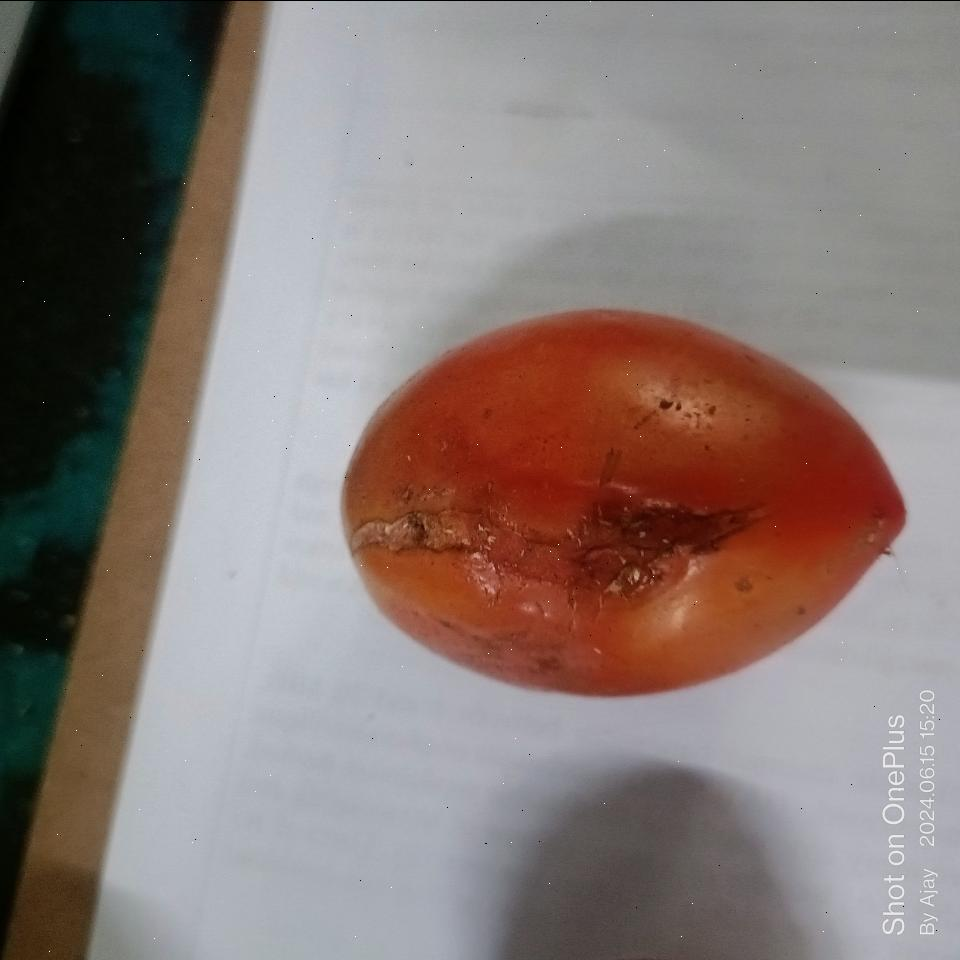Cracking: (349, 468, 794, 625)
